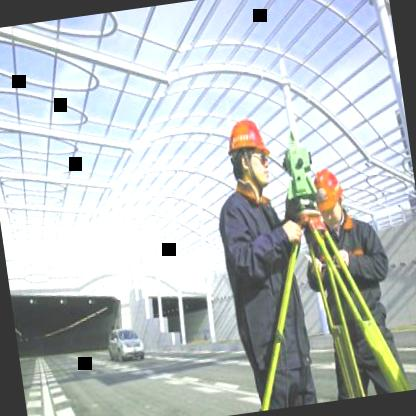helmet: (219, 111, 278, 196), (308, 163, 348, 225)
